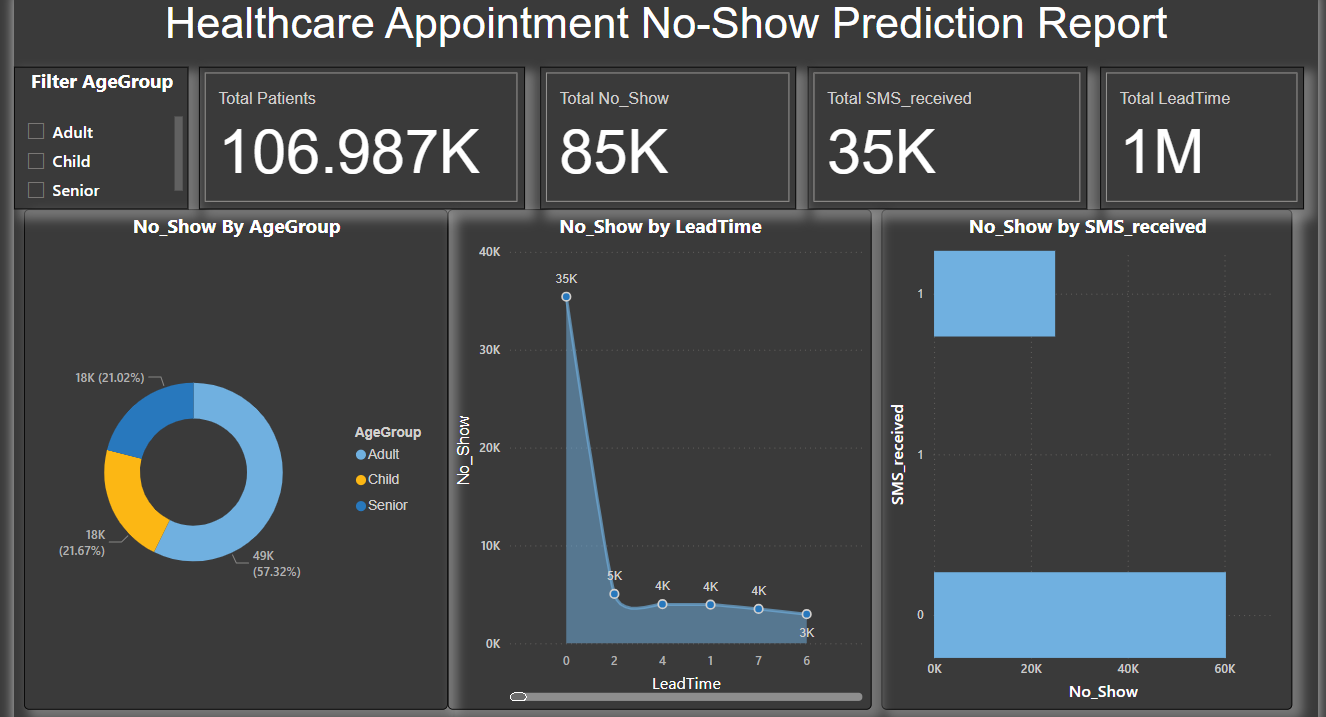

Layout of this report page (visuals, bound fields, positions):
{"tool":"powerbi","page":{"name":"Page 1","canvas":[1280,720],"ordinal":0},"visuals":[{"type":"donutChart","title":"No_Show By AgeGroup","fields":{"Category":["cleaned_appointment.AgeGroup"],"Y":["Sum(cleaned_appointment.No_Show)"]},"box":[9.6,212.7,415.8,491.3],"z":0},{"type":"clusteredBarChart","fields":{"Category":["cleaned_appointment.SMS_received"],"Y":["Sum(cleaned_appointment.No_Show)"]},"box":[852.1,212.7,403.4,491.3],"z":1000},{"type":"lineChart","title":"No_Show by LeadTime","fields":{"Category":["cleaned_appointment.LeadTime"],"Y":["Sum(cleaned_appointment.No_Show)"]},"box":[425.4,212.7,415.8,491.3],"z":2000},{"type":"slicer","title":"Filter AgeGroup","fields":{"Values":["cleaned_appointment.AgeGroup"]},"box":[0,72.7,171.5,140],"z":3000},{"type":"cardVisual","fields":{"Data":["Sum(cleaned_appointment.SMS_received)"]},"box":[779.4,72.7,274.4,140],"z":4000},{"type":"cardVisual","fields":{"Data":["Sum(cleaned_appointment.No_Show)"]},"box":[516,72.7,251.1,140],"z":5000},{"type":"cardVisual","fields":{"Data":["Sum(cleaned_appointment.LeadTime)"]},"box":[1066.2,72.7,200.3,140],"z":6000},{"type":"cardVisual","fields":{"Data":["CountNonNull(cleaned_appointment.Patient_ID)"]},"box":[181.1,72.7,319.7,140],"z":7000},{"type":"textbox","box":[0,0,1280.3,63.1],"z":8000}]}

Visuals, with their boxes in screenshot pixels (x1, y1, x2, y2):
"No_Show By AgeGroup" donutChart: left=20, top=169, right=444, bottom=670
clusteredBarChart - cleaned_appointment.SMS_received x Sum(cleaned_appointment.No_Show): left=879, top=169, right=1291, bottom=670
"No_Show by LeadTime" lineChart: left=444, top=169, right=868, bottom=670
"Filter AgeGroup" slicer: left=10, top=26, right=185, bottom=169
cardVisual - Sum(cleaned_appointment.SMS_received): left=805, top=26, right=1085, bottom=169
cardVisual - Sum(cleaned_appointment.No_Show): left=537, top=26, right=793, bottom=169
cardVisual - Sum(cleaned_appointment.LeadTime): left=1098, top=26, right=1302, bottom=169
cardVisual - CountNonNull(cleaned_appointment.Patient_ID): left=195, top=26, right=521, bottom=169
textbox: left=10, top=0, right=1316, bottom=16
